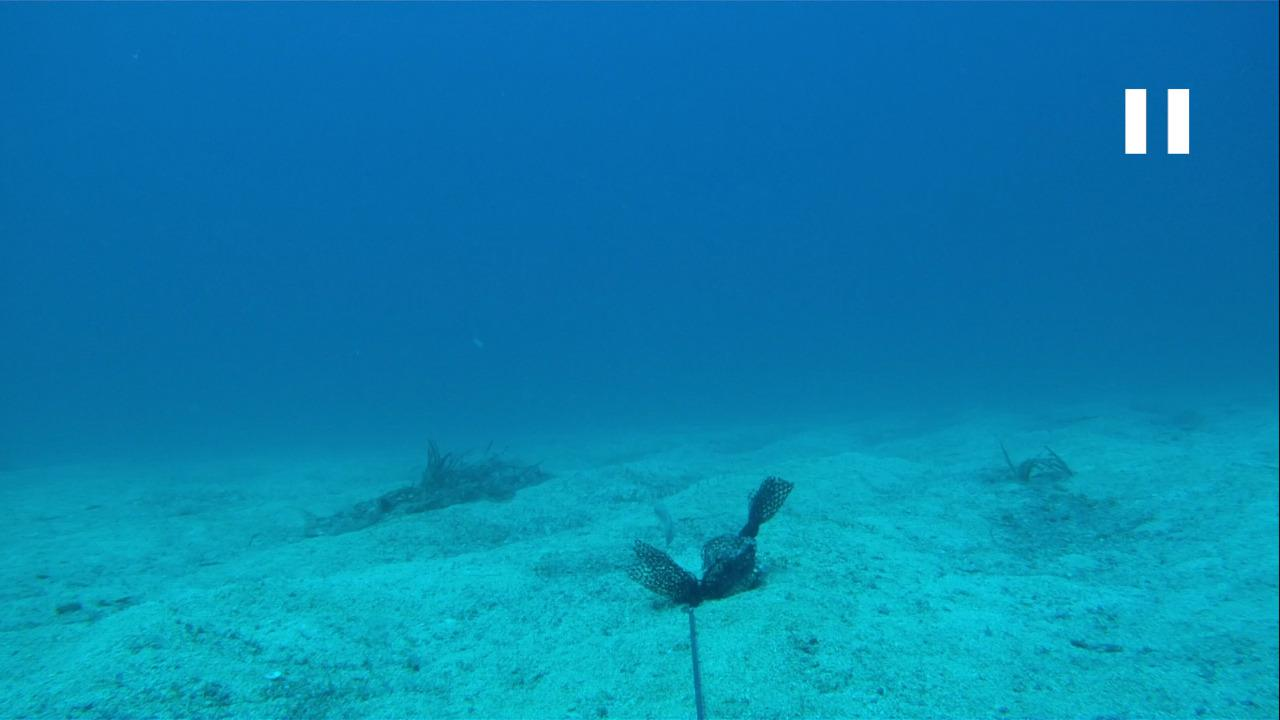raor: (642, 497, 682, 548)
